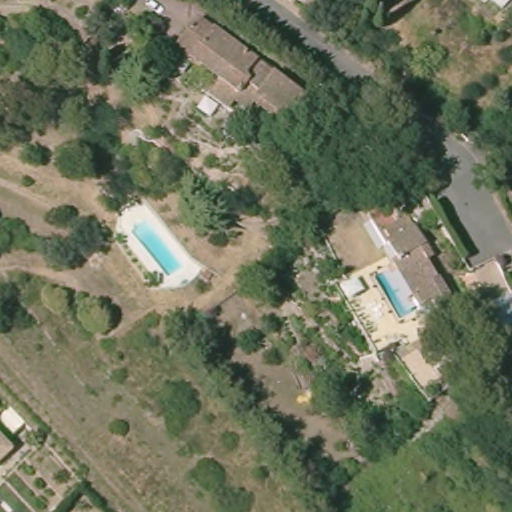pool: (128, 218, 189, 278), (371, 268, 427, 325)
